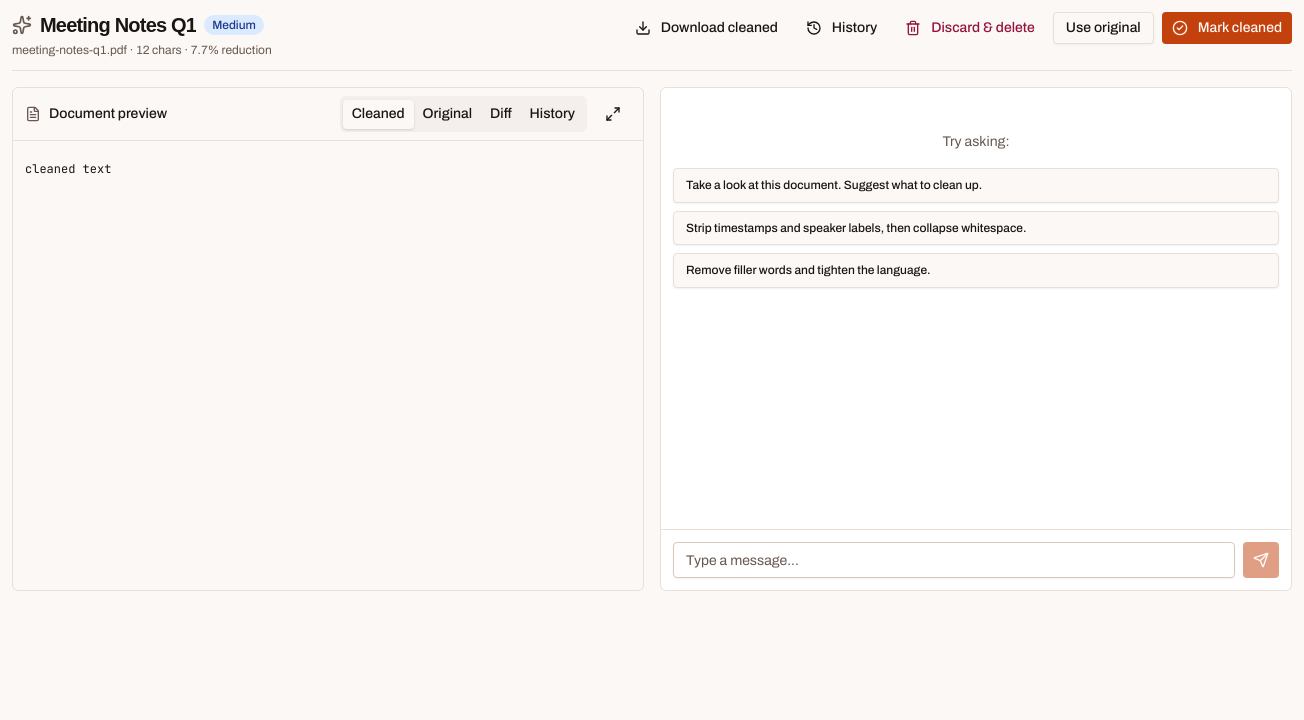
CleanupView › switches to showing originalContent after clicking the Original tab
Note: Act — switch to the "Original" tab
What coordinates should you click on to do the following:
click the tab "Original"
I would click on:
 (447, 114)
Its box is [414,100,481,128].
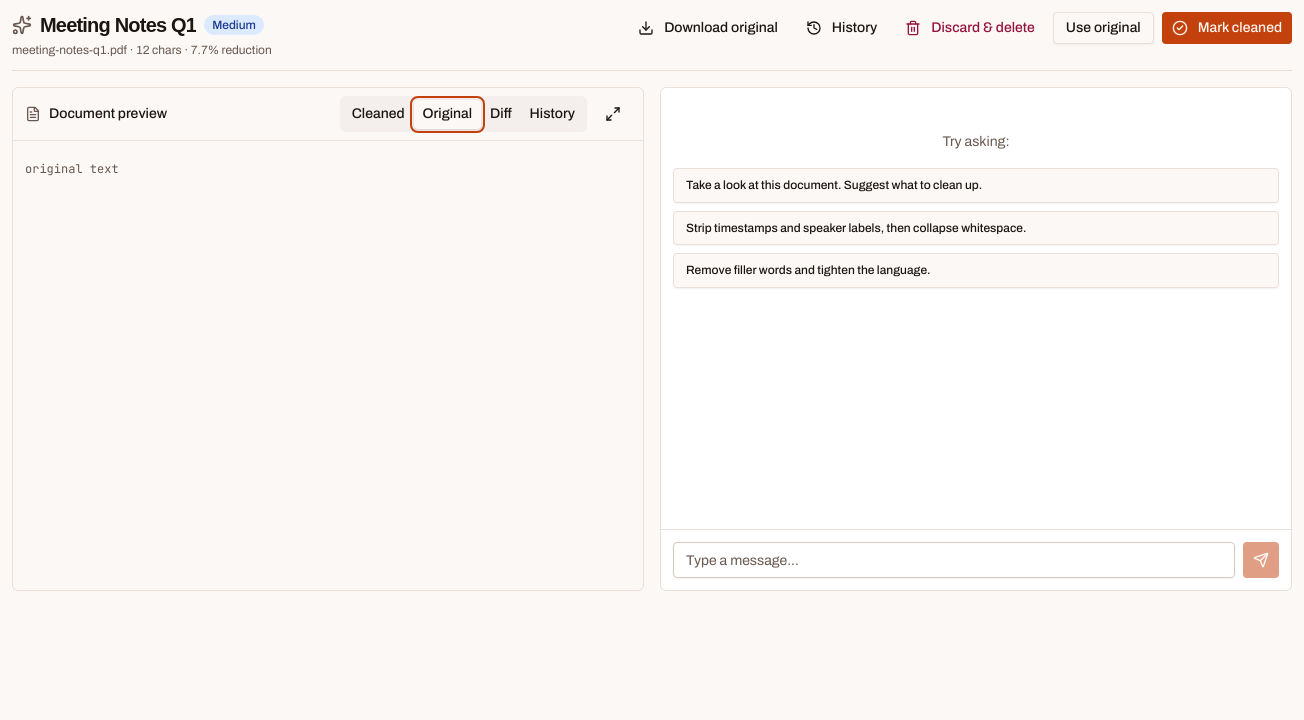
Now the text "original text" is shown, box [25,161,119,177]
